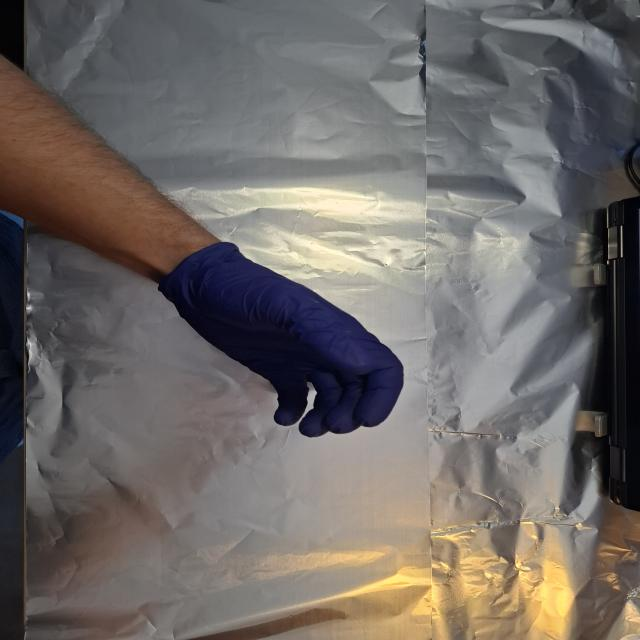glove_on: (159, 242, 410, 440)
